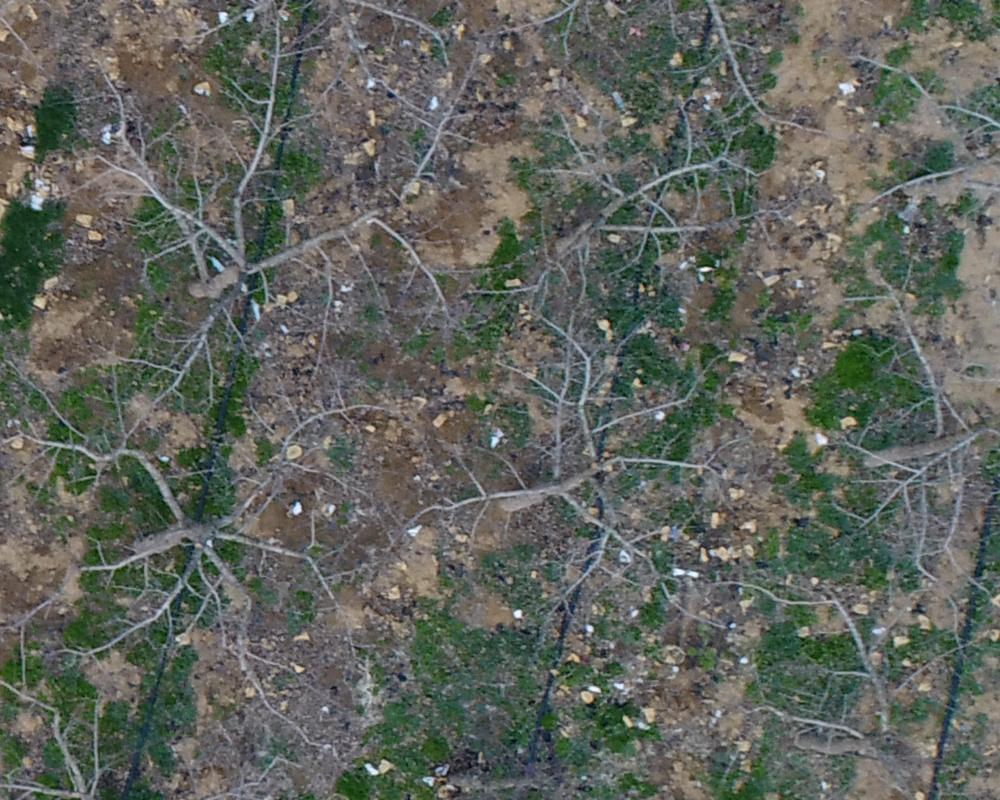apple: (60, 12, 430, 393), (10, 371, 356, 724), (420, 306, 746, 649), (710, 547, 990, 790), (799, 241, 990, 543), (126, 10, 509, 150)
